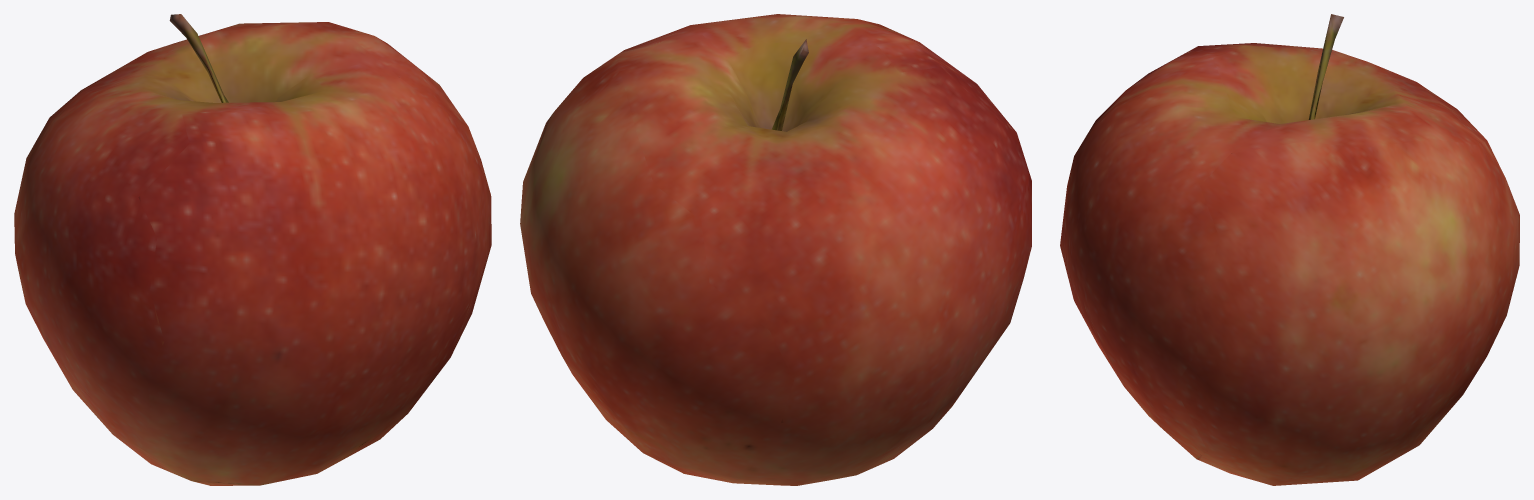
File: Apple.fbx
The picture shows the model from 3 angles, left to right: view 1: azimuth 30°, elevation 25°; view 2: azimuth 150°, elevation 25°; view 3: azimuth 270°, elevation 25°; orthographic projection. The views are drawn at different scales.
Parts seen in each view (by area): view 1: Apple; view 2: Apple; view 3: Apple.
Boxes of the visible parts, bbox=[...] form: Apple: bbox=[14, 14, 491, 485]; Apple: bbox=[520, 14, 1031, 485]; Apple: bbox=[1060, 14, 1519, 485].
Bounding box in the file's own units: 0.1138 × 0.1122 × 0.1129.
Materials: 1 (1 with a texture image).
